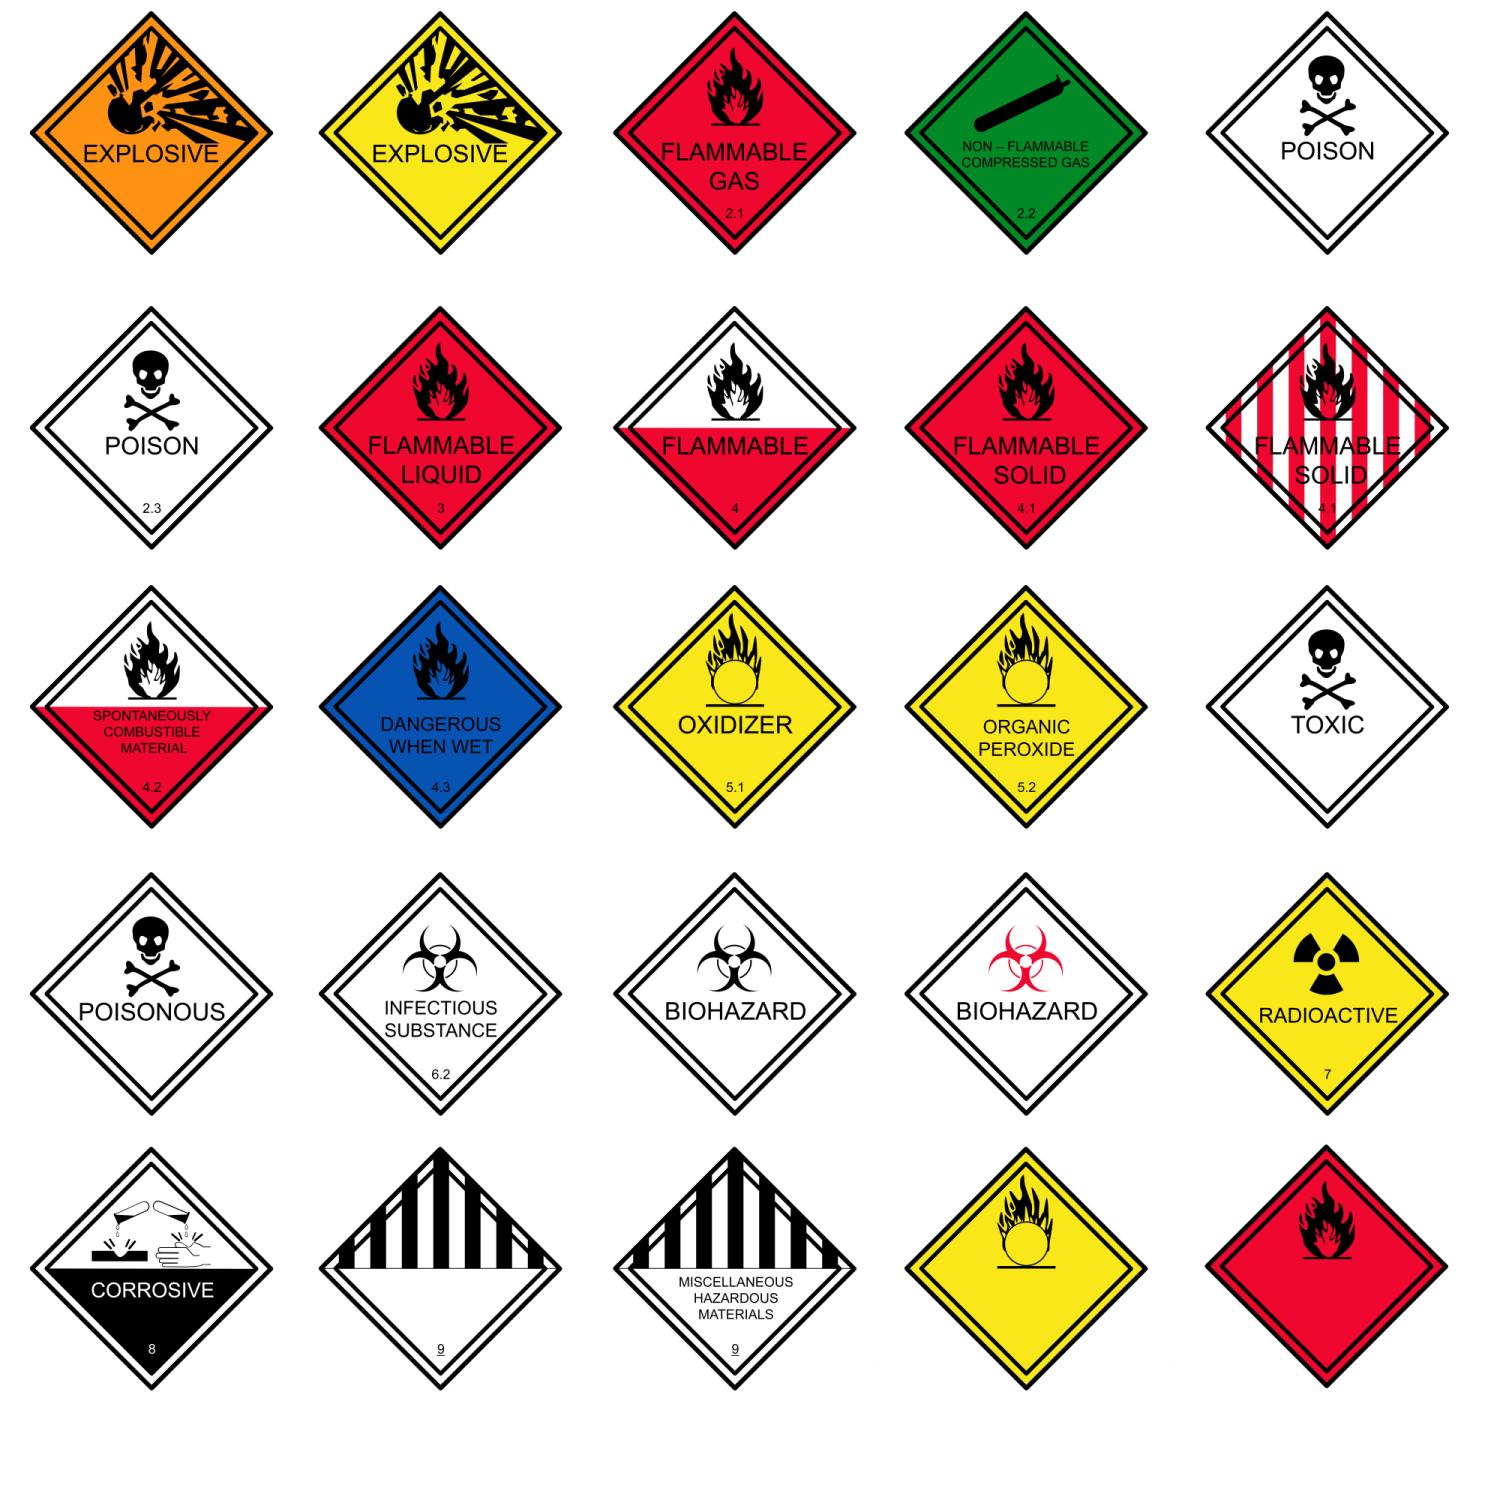corrosive: (23, 1146, 277, 1411)
dangerous-when-wet: (308, 576, 569, 841)
explosive: (310, 8, 569, 260), (32, 5, 277, 262)
flammable: (310, 299, 563, 558), (609, 12, 863, 262), (1201, 1144, 1446, 1400), (611, 304, 860, 549)
flammable-solid: (1198, 304, 1451, 555), (907, 306, 1150, 554)
infectious-substance: (310, 871, 566, 1126), (614, 871, 859, 1120), (908, 867, 1148, 1115)
non-flammable-gas: (902, 12, 1148, 258)
oxidizer: (902, 581, 1155, 837), (900, 1146, 1157, 1397), (611, 581, 859, 838)
poison: (1207, 582, 1455, 843), (29, 308, 282, 556), (32, 874, 277, 1122), (1205, 12, 1455, 254)
radioactive: (1203, 871, 1449, 1118)
spontaneously-combustible: (32, 582, 276, 841)
